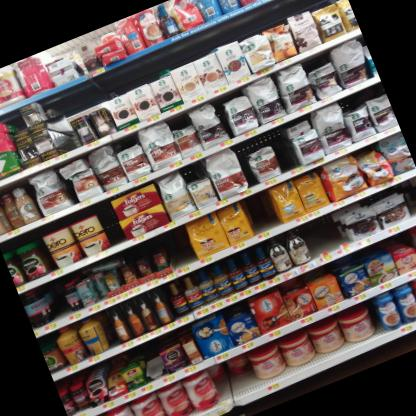empty_space: (303, 218, 344, 260), (161, 227, 195, 271), (246, 191, 278, 235), (142, 351, 172, 384), (279, 134, 301, 176), (404, 193, 416, 218)
